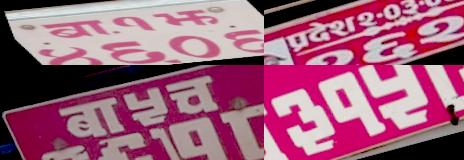0: (152, 31, 233, 63), (379, 1, 402, 20), (420, 0, 443, 9)
1: (311, 67, 388, 148), (103, 14, 162, 36)
2: (410, 10, 464, 47), (296, 43, 359, 65), (353, 10, 376, 28)
3: (264, 80, 341, 160), (397, 0, 419, 16)
4: (22, 43, 106, 65)
5: (353, 65, 435, 136), (117, 81, 174, 132)
6: (84, 36, 180, 65), (86, 127, 162, 160), (353, 27, 415, 65), (204, 25, 264, 58), (24, 141, 103, 160)
7: (143, 111, 235, 160)
8: (402, 65, 464, 120), (214, 95, 264, 160)
ba: (53, 91, 129, 146), (31, 18, 118, 42)
cha: (160, 69, 229, 122), (264, 98, 289, 160)
jha: (145, 7, 228, 31)
